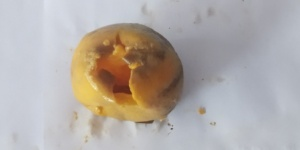BAD: (70, 24, 185, 123)
